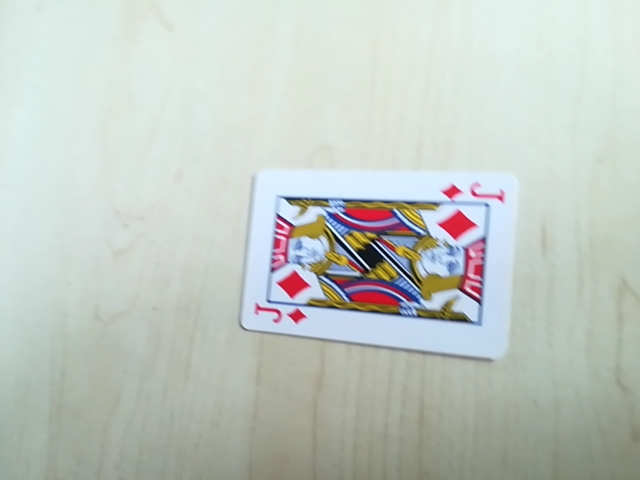fk j: (439, 176, 507, 207), (250, 303, 306, 330)
